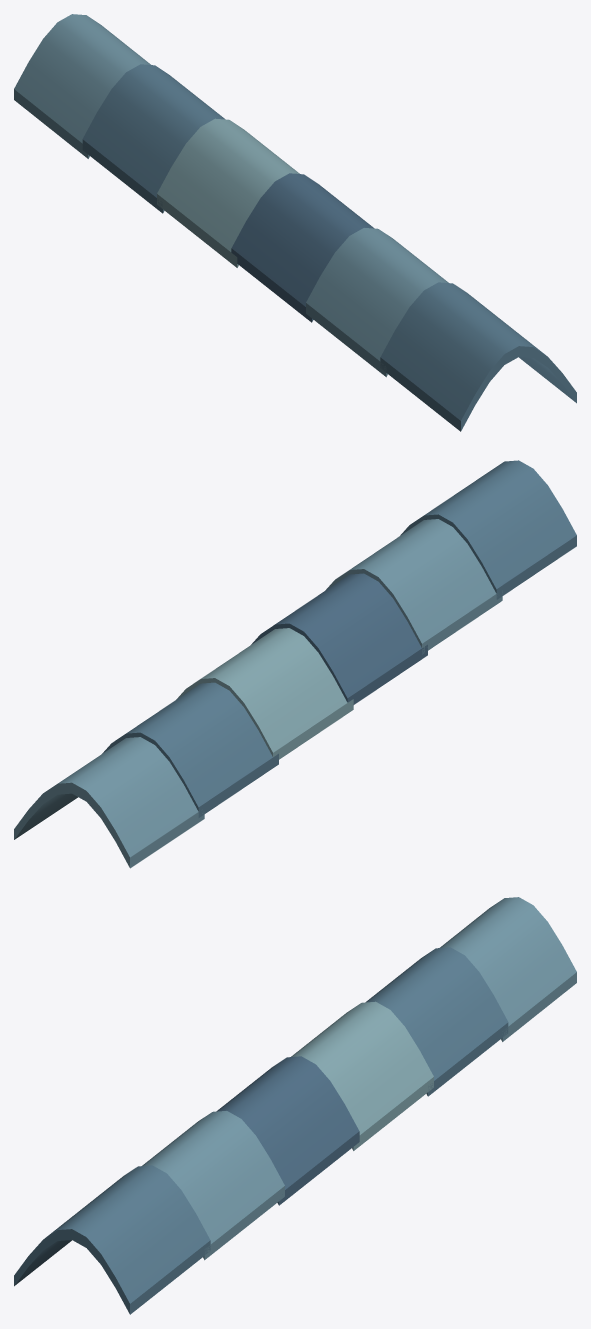
Rendered from roof_ridge_slateblue_2m.glb.
3 views of the same model, one above another, from view 1: azimuth 30°, elevation 25°; view 2: azimuth 150°, elevation 25°; view 3: azimuth 330°, elevation 25° (orthographic).
Visible parts, largest first — view 1: roof_ridge_slateblue_2m; view 2: roof_ridge_slateblue_2m; view 3: roof_ridge_slateblue_2m.
Part boxes in pixels (x1,y1,x2,y2): roof_ridge_slateblue_2m: [14, 14, 576, 431]; roof_ridge_slateblue_2m: [14, 460, 576, 868]; roof_ridge_slateblue_2m: [14, 897, 576, 1314].
Size of the model in its own units: 0.3 by 0.189 by 2.
